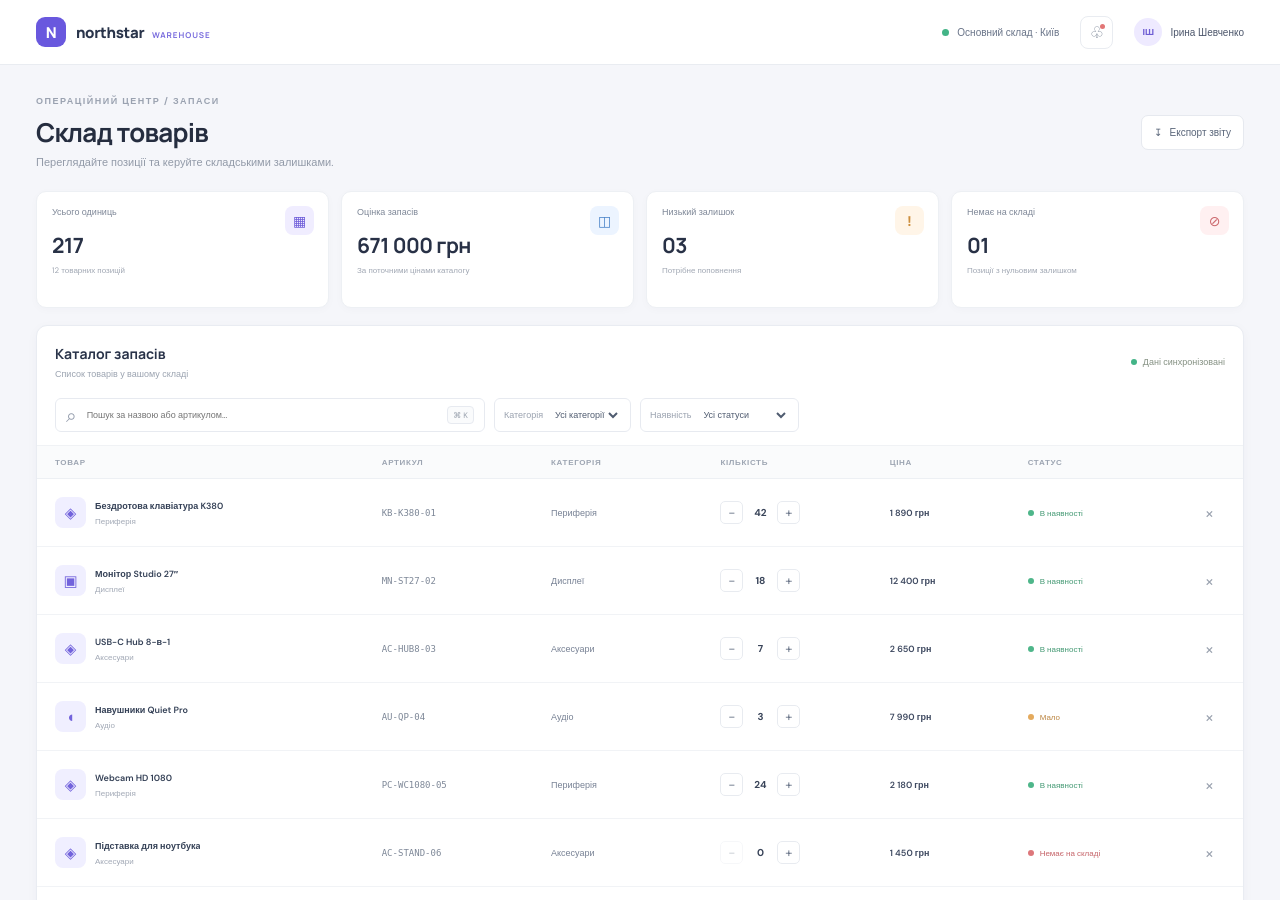
Test: warehouse inventory workflow › filters by category and stock availability
The width and height of the screenshot is (1280, 900).
Expected: the text "Бездротова клавіатура K380" is shown, [95,500,223,512]
Select "Аксесуари" in the dropdown named "Фільтр категорії" at (586, 415), box [551,408,621,422]
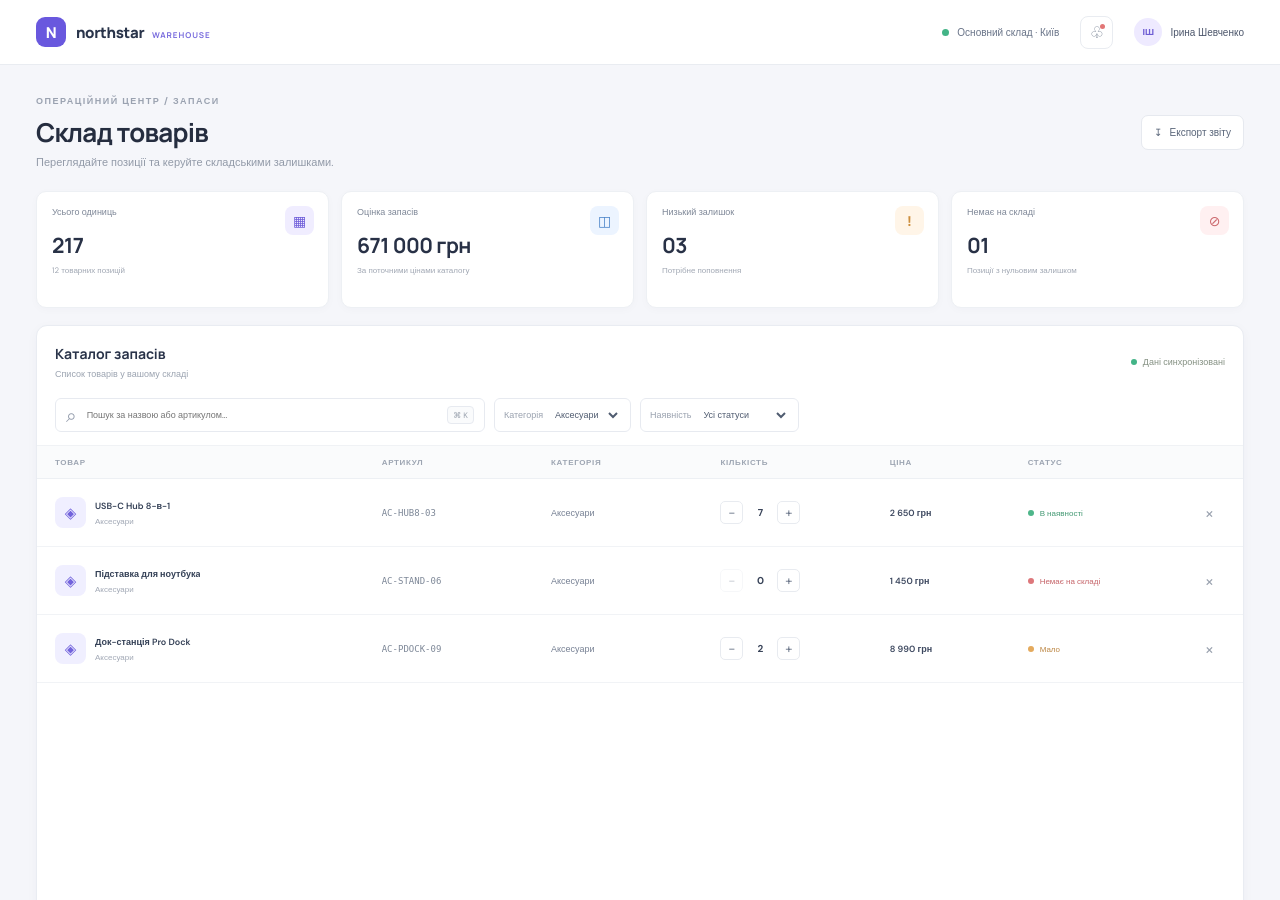
Select "Мало" in the dropdown named "Фільтр наявності" at (744, 415), box [700,408,788,422]
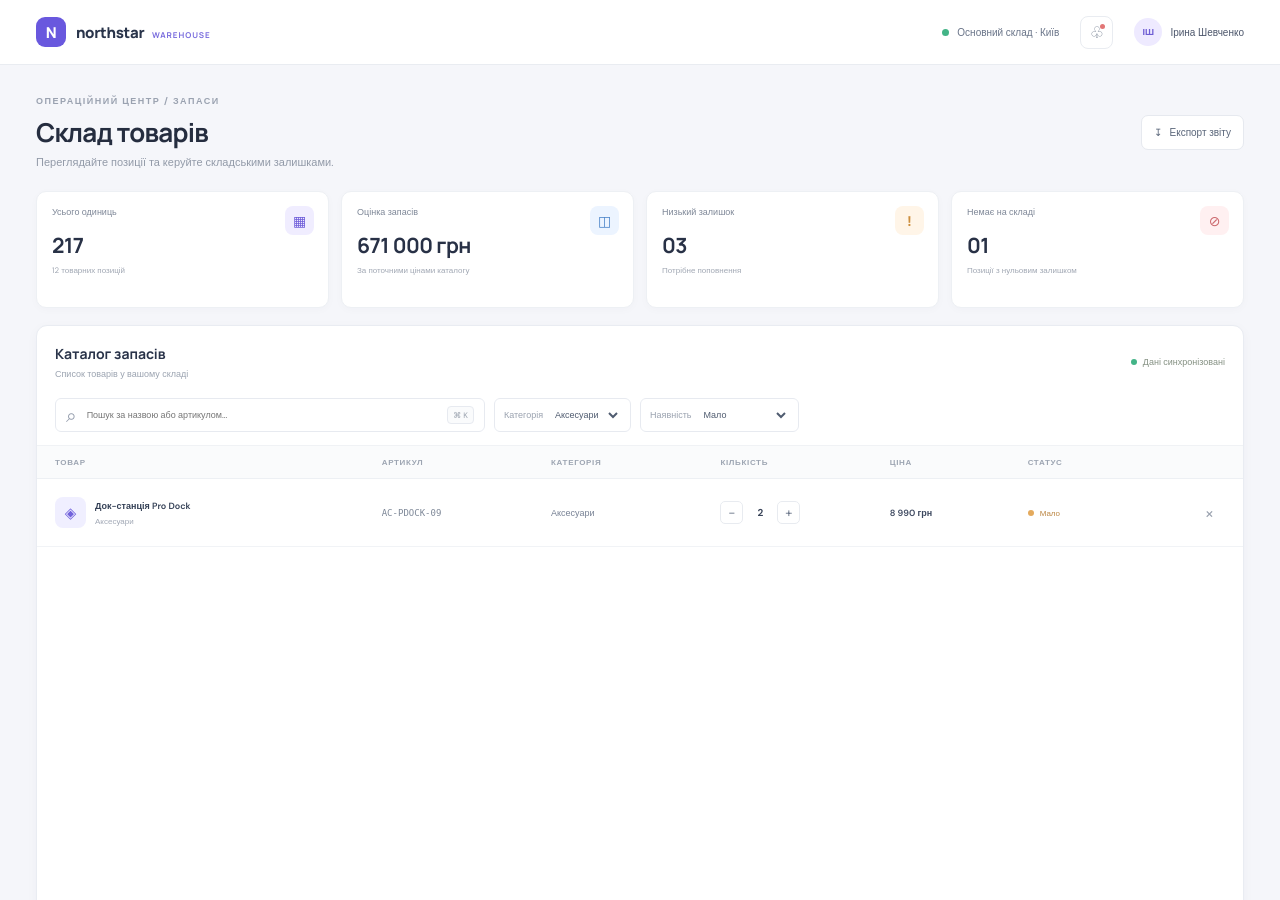
Now the text "Док-станція Pro Dock" is shown, box [95,500,191,512]
Now the text "Підставка для ноутбука" is gone
